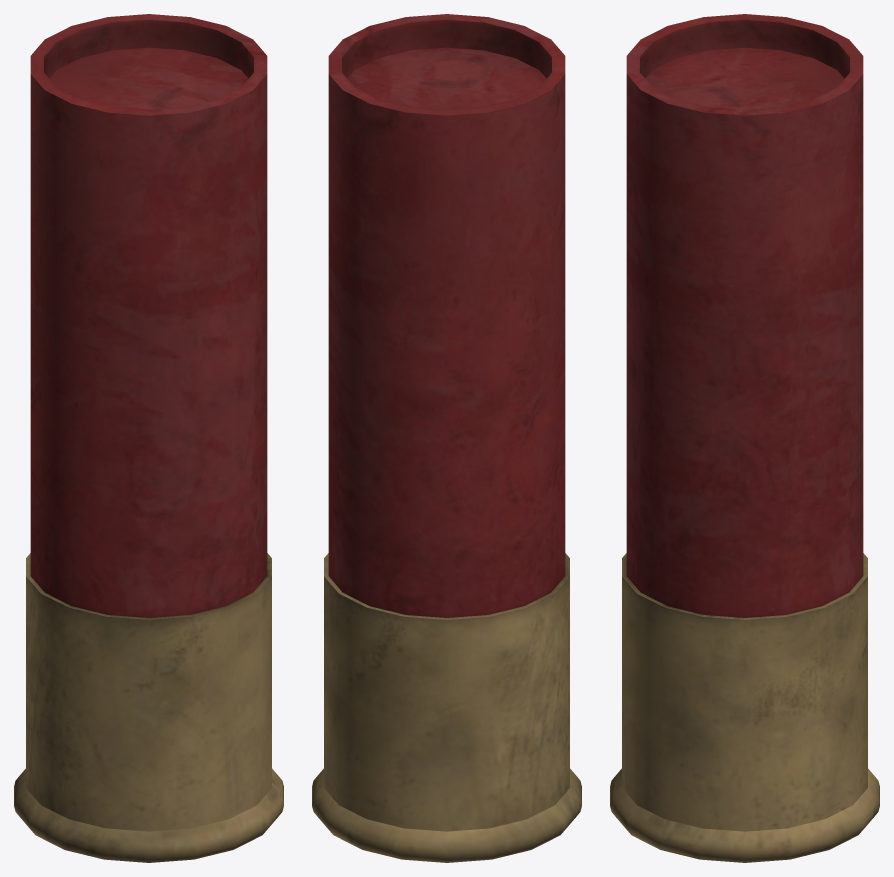
The picture shows the model from 3 angles, left to right: view 1: azimuth 30°, elevation 25°; view 2: azimuth 150°, elevation 25°; view 3: azimuth 270°, elevation 25°; orthographic projection.
Visible parts, largest first — view 1: 12mm; view 2: 12mm; view 3: 12mm.
Part boxes in pixels (box(x1,y1,x2,y2)): 12mm: box(14, 14, 283, 862); 12mm: box(312, 14, 581, 862); 12mm: box(610, 14, 879, 862).
Bounding box in the file's own units: 0.2872 × 0.8661 × 0.2829.
1 material, 1 textured.
